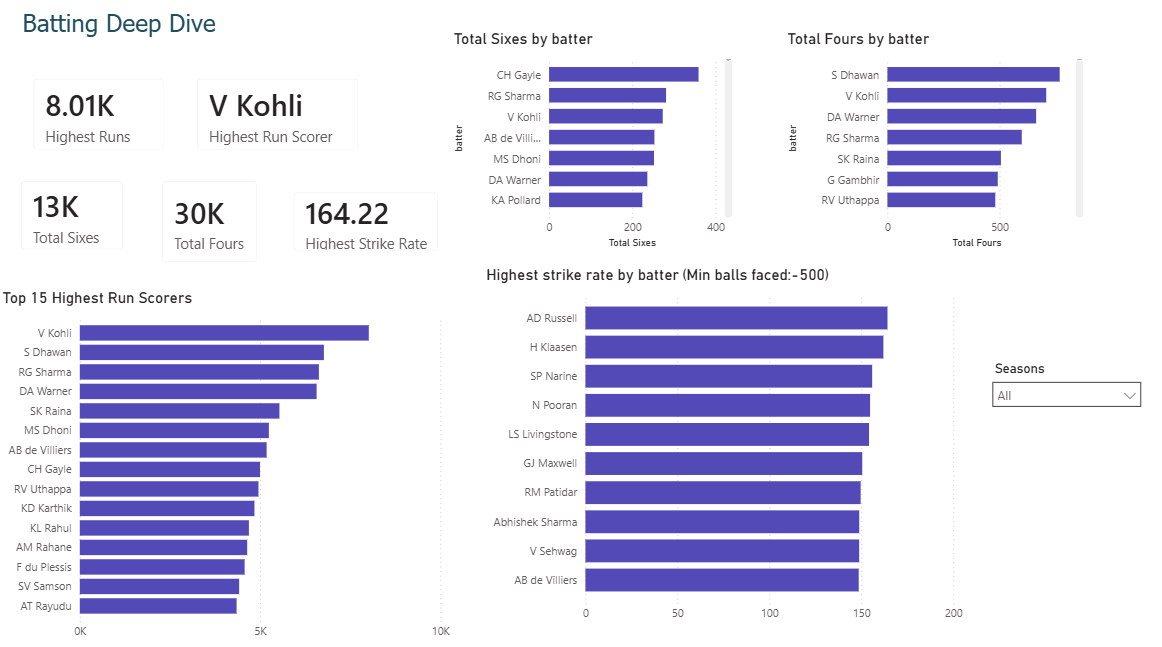

The dashboard page shown, as its layout file describes it:
{"tool":"powerbi","page":{"name":"Batting Analysis","canvas":[1280,720],"ordinal":2},"visuals":[{"type":"cardVisual","fields":{"Data":["ipl deliveries.Highest Runs"]},"box":[22,78.2,163.3,102.9],"z":0},{"type":"cardVisual","fields":{"Data":["ipl deliveries.Total Sixes"]},"box":[0,177,146.8,109.8],"z":1000},{"type":"cardVisual","fields":{"Data":["ipl deliveries.Total Fours"]},"box":[146.8,177,138.6,123.5],"z":2000},{"type":"clusteredBarChart","title":"Top 15 Highest Run Scorers","fields":{"Y":["Sum(ipl deliveries.batsman_runs)"],"Category":["ipl deliveries.batter"]},"box":[0,325.2,500.9,395.2],"z":3000},{"type":"barChart","fields":{"Y":["ipl deliveries.Total Sixes"],"Category":["ipl deliveries.batter"]},"box":[495.4,41.2,315.6,245.6],"z":4000},{"type":"clusteredBarChart","title":"Highest strike rate by batter (Min balls faced:-500)","fields":{"Y":["Avg(ipl batting_summary.strike_rate)"],"Category":["ipl batting_summary.batter"]},"box":[531.4,300,532.9,400],"z":5000},{"type":"slicer","fields":{"Values":["ipl matches.Season Sort"]},"box":[1081.3,399.3,183.9,100.2],"z":6000},{"type":"clusteredBarChart","fields":{"Category":["ipl deliveries.batter"],"Y":["ipl deliveries.Total Fours"]},"box":[861.8,41.2,334.8,245.6],"z":7000},{"type":"cardVisual","fields":{"Data":["ipl deliveries.Highest Strike Rate"]},"box":[271.7,189.4,193.5,98.8],"z":8000},{"type":"textbox","box":[22,12.3,249.7,49.4],"z":9000},{"type":"cardVisual","fields":{"Data":["ipl deliveries.Highest Run Scorer"]},"box":[199,74.1,211.3,112.5],"z":9001}]}

Visuals, with their boxes in screenshot pixels (x1, y1, x2, y2), scaled from the page's 1280x720 canvas onto the 1162x647 screenshot:
cardVisual - ipl deliveries.Highest Runs: 20, 70, 168, 163
cardVisual - ipl deliveries.Total Sixes: 0, 159, 133, 258
cardVisual - ipl deliveries.Total Fours: 133, 159, 259, 270
"Top 15 Highest Run Scorers" clusteredBarChart: 0, 292, 455, 646
barChart - ipl deliveries.Total Sixes x ipl deliveries.batter: 450, 37, 736, 258
"Highest strike rate by batter (Min balls faced:-500)" clusteredBarChart: 482, 270, 966, 629
slicer - ipl matches.Season Sort: 982, 359, 1149, 449
clusteredBarChart - ipl deliveries.batter x ipl deliveries.Total Fours: 782, 37, 1086, 258
cardVisual - ipl deliveries.Highest Strike Rate: 247, 170, 422, 259
textbox: 20, 11, 247, 55
cardVisual - ipl deliveries.Highest Run Scorer: 181, 67, 372, 168
